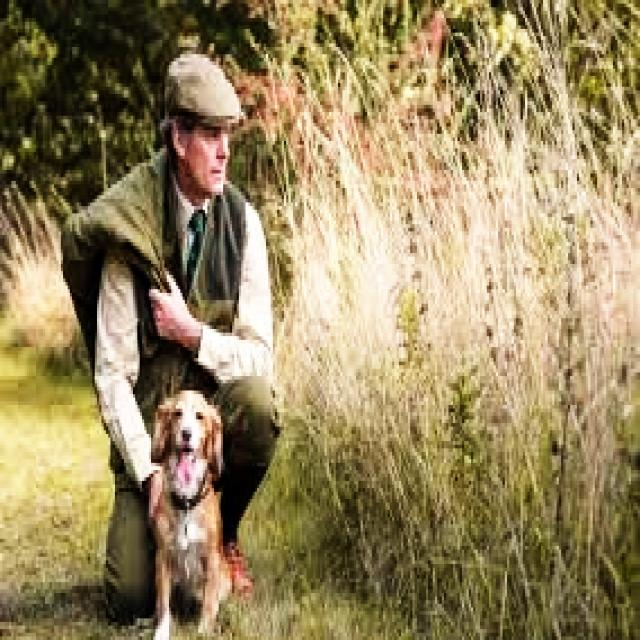TOPI: (153, 47, 246, 130)
